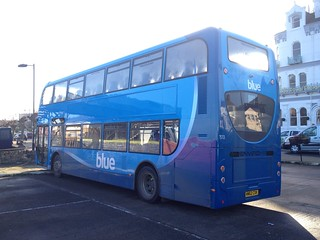bus: (31, 26, 282, 210)
